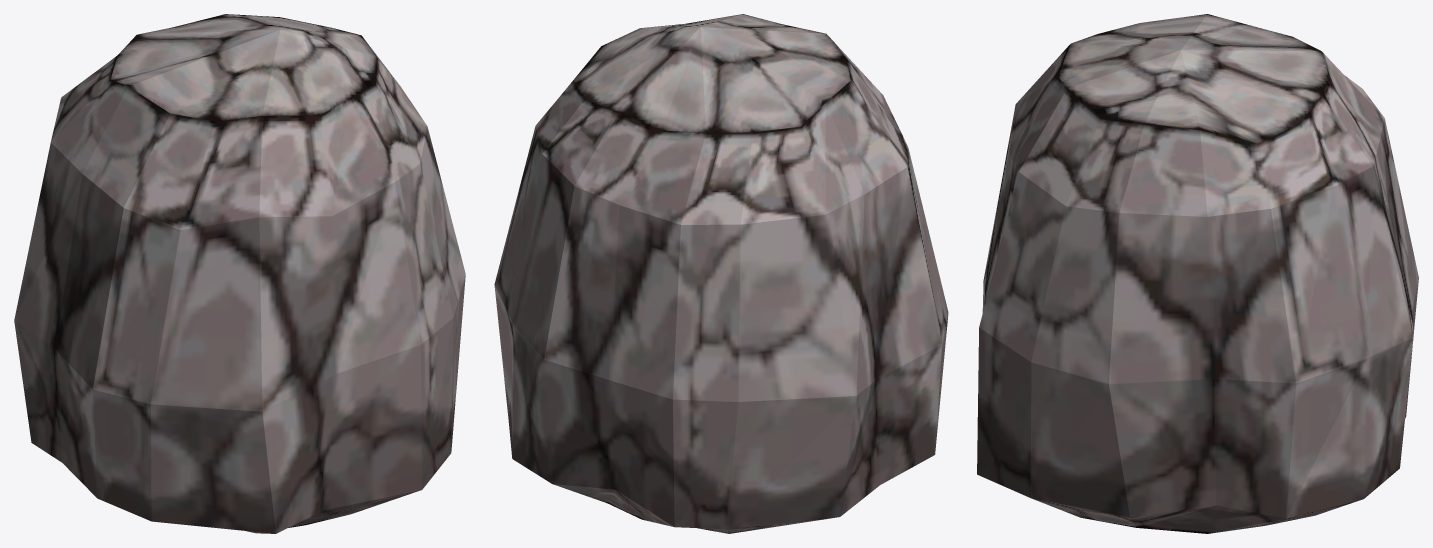
File: Rock.fbx
3 views of the same model, side by side, from view 1: azimuth 30°, elevation 25°; view 2: azimuth 150°, elevation 25°; view 3: azimuth 270°, elevation 25° (orthographic). The views are drawn at different scales.
Visible parts, largest first — view 1: n0b0; view 2: n0b0; view 3: n0b0.
Boxes of the visible parts, x1,y1,x2,y2 form: n0b0: (14, 14, 465, 533); n0b0: (494, 14, 948, 533); n0b0: (977, 14, 1418, 533).
Size of the model in its own units: 1279 by 1427 by 1315.
1 material, 1 textured.
